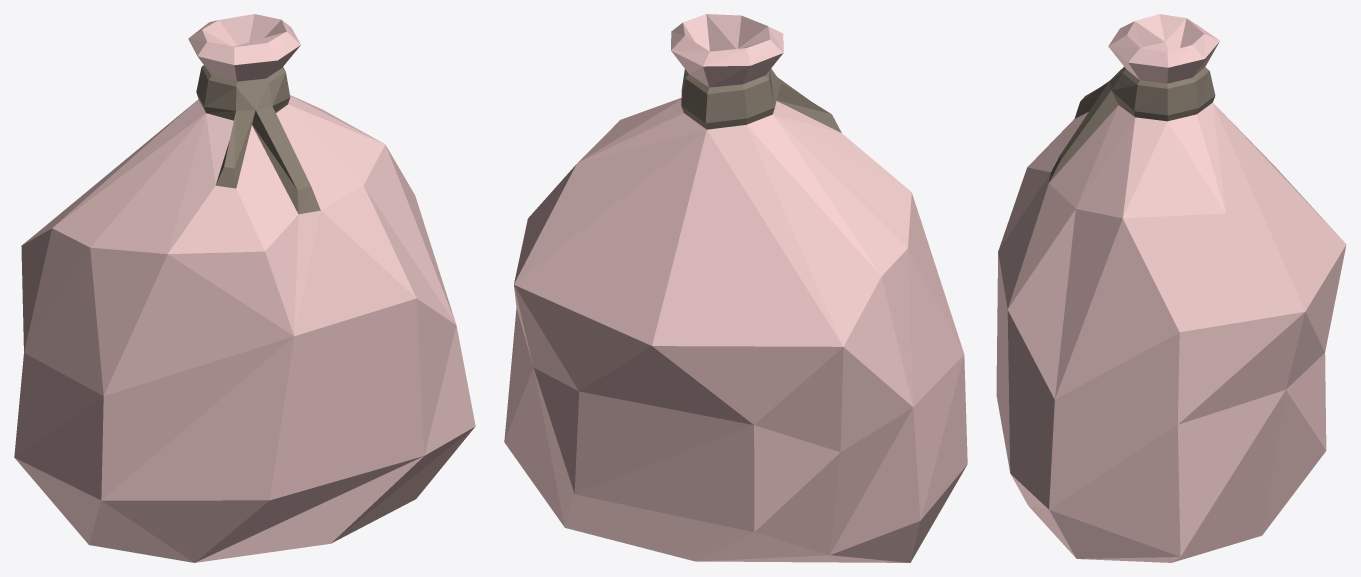
Rendered from SM_Item_Bag_02.glb.
3 views of the same model, side by side, from view 1: azimuth 30°, elevation 25°; view 2: azimuth 150°, elevation 25°; view 3: azimuth 270°, elevation 25° (orthographic). The views are drawn at different scales.
Visible parts, largest first — view 1: SM_Item_Bag_02_00; view 2: SM_Item_Bag_02_00; view 3: SM_Item_Bag_02_00.
Part boxes in pixels (x1,y1,x2,y2): SM_Item_Bag_02_00: (14,14,475,562); SM_Item_Bag_02_00: (504,14,967,562); SM_Item_Bag_02_00: (996,14,1346,562).
Bounding box in the file's own units: 0.3426 × 0.376 × 0.2571.
1 material, 1 textured.
